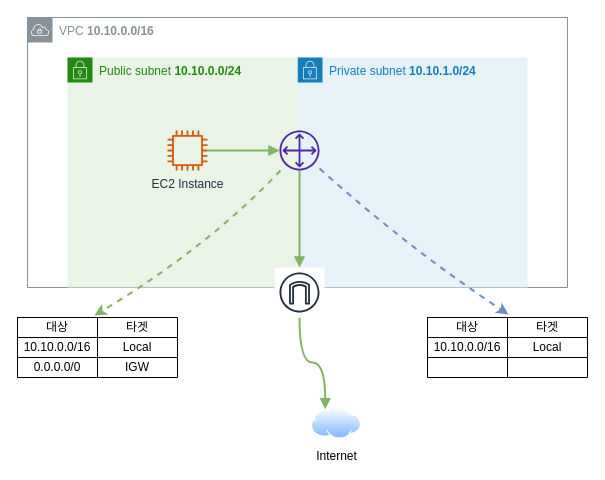
This 605x480 diagram has some shape labels left out. Each missing label, with the centre of its shape:
Internet gateway: [299,292]
가상 라우터: [299,150]
